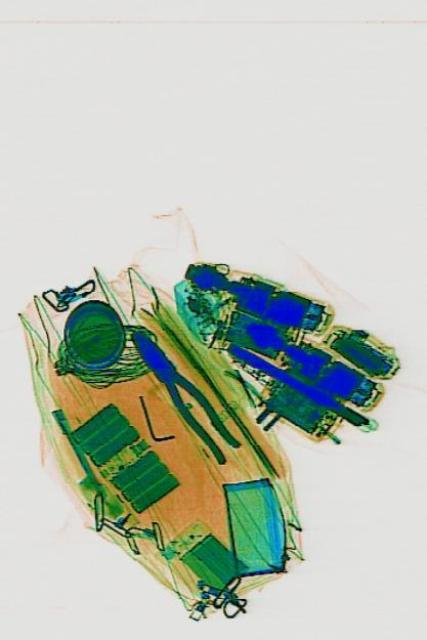Pliers: (121, 315, 240, 469)
